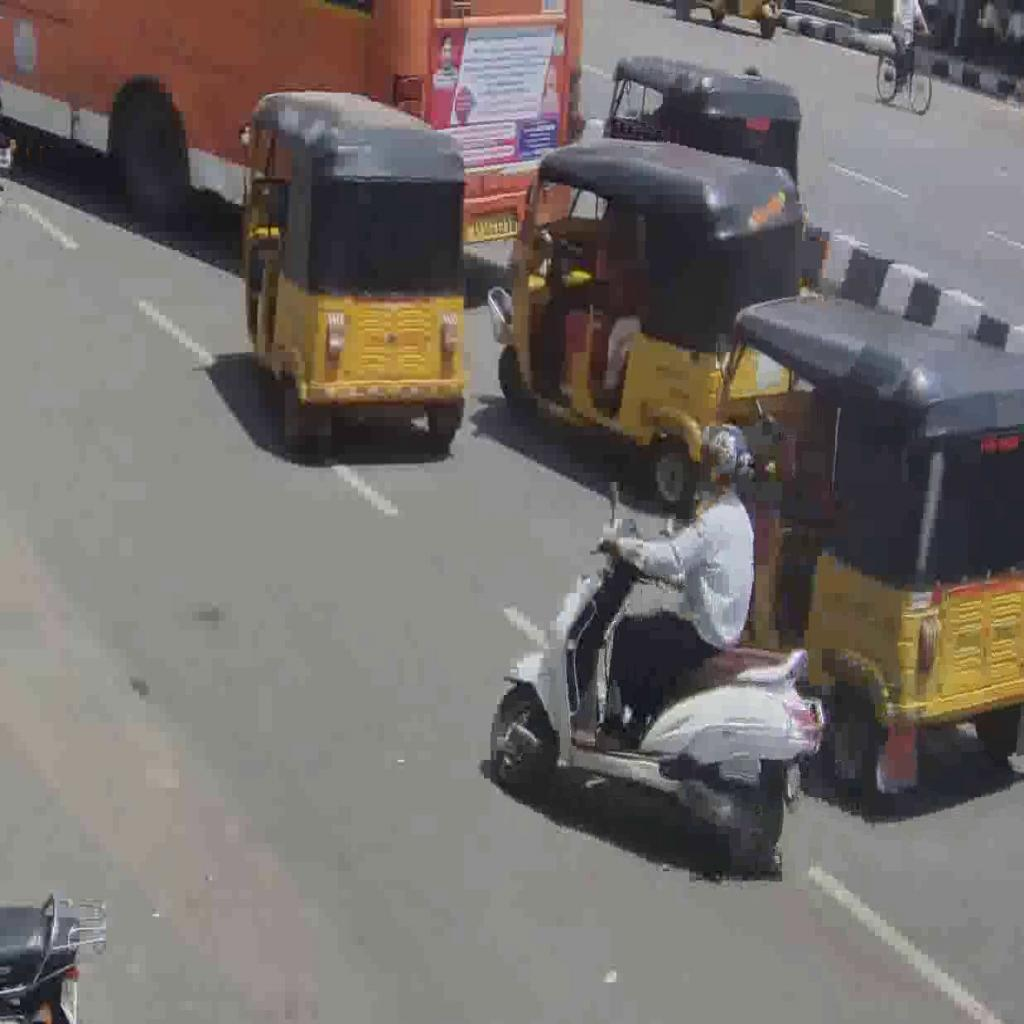helmet: (494, 507, 833, 874)
